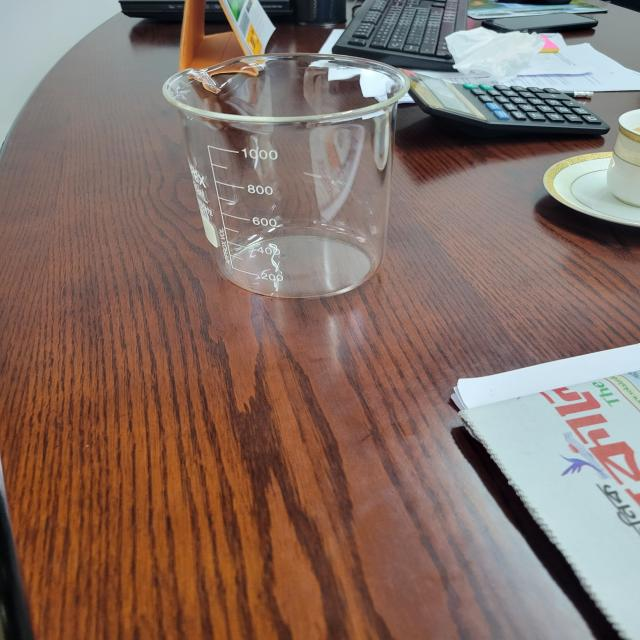Beaker: (140, 37, 438, 325)
